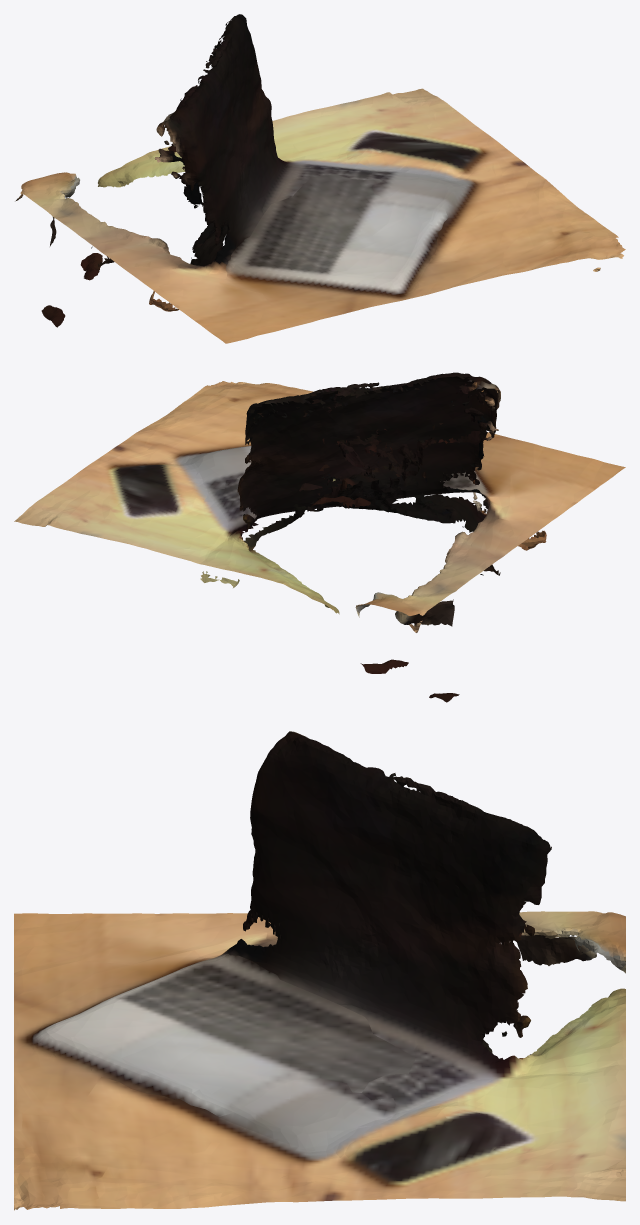
Rendered from scaniverse-20211105-112914.fbx.
The picture shows the model from 3 angles, top to bottom: view 1: azimuth 30°, elevation 25°; view 2: azimuth 150°, elevation 25°; view 3: azimuth 270°, elevation 25°; orthographic projection. The views are drawn at different scales.
Parts seen in each view (by area): view 1: mesh; view 2: mesh; view 3: mesh.
Part boxes in pixels (x1=…): mesh: x1=15, y1=14, x2=625, y2=343; mesh: x1=14, y1=372, x2=625, y2=702; mesh: x1=14, y1=731, x2=625, y2=1210.
Bounding box in the file's own units: 0.5556 × 0.3399 × 0.4988.
1 material, 1 textured.
